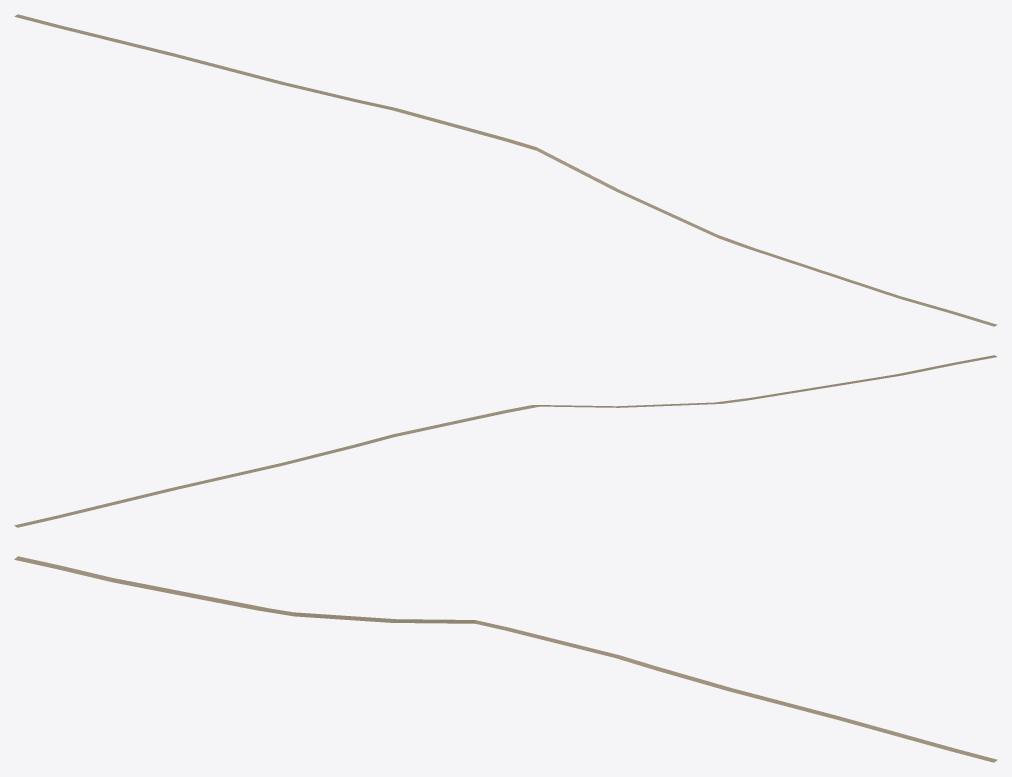
The model's file is farm_-20_-22_track.glb.
The picture shows the model from 3 angles, top to bottom: view 1: azimuth 90°, elevation 25°; view 2: azimuth 150°, elevation 25°; view 3: azimuth 270°, elevation 25°; orthographic projection. The views are drawn at different scales.
Visible parts, largest first — view 1: geometry_0; view 2: geometry_0; view 3: geometry_0.
Part boxes in pixels (x1=…): geometry_0: x1=14, y1=14, x2=997, y2=326; geometry_0: x1=14, y1=355, x2=997, y2=527; geometry_0: x1=14, y1=556, x2=997, y2=762.
Size of the model in its own units: 271 by 28.95 by 434.
